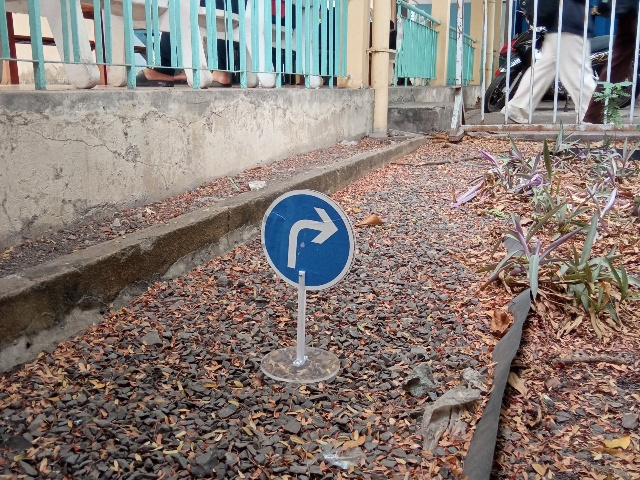Right_Sign: (261, 190, 356, 290)
